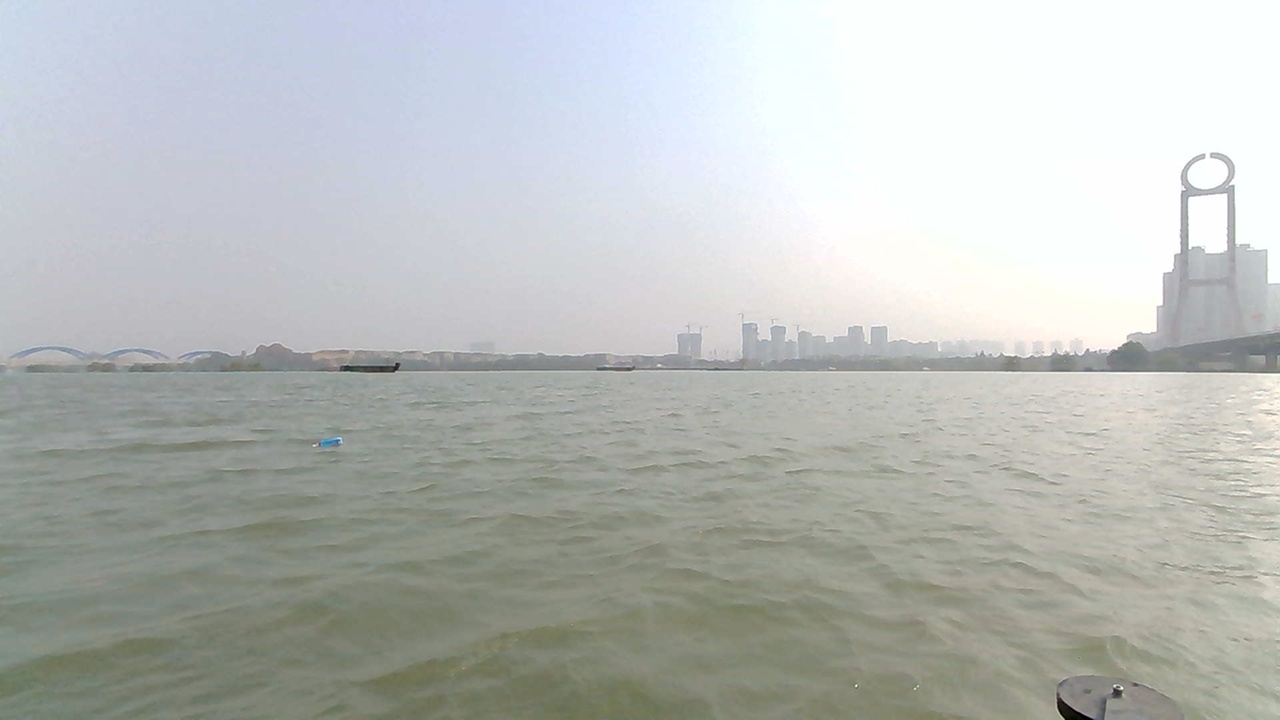bottle: (311, 434, 352, 454)
